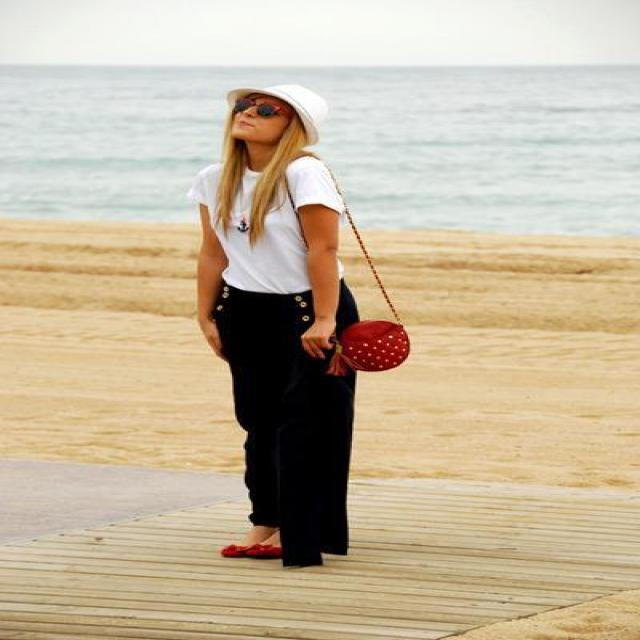bag: (320, 321, 408, 379)
hat: (227, 83, 346, 160)
pants: (211, 280, 363, 568)
shirt: (181, 148, 342, 294)
shoe: (221, 527, 280, 559)
